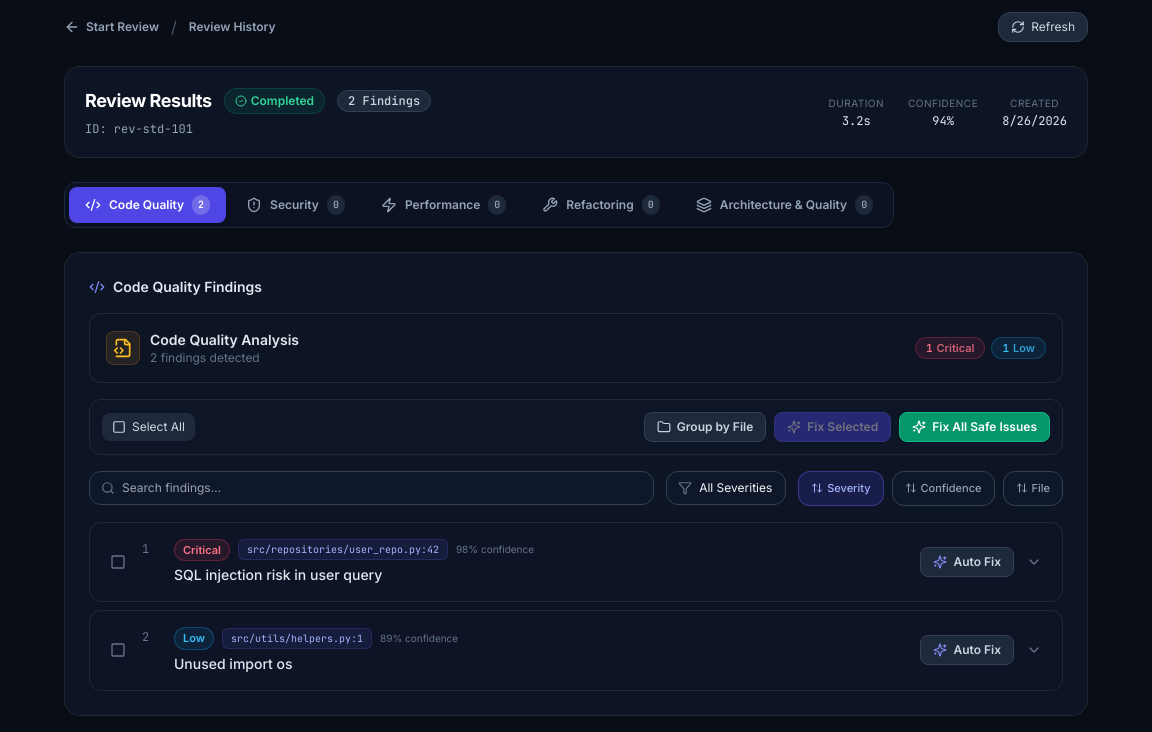
Test: Localized Error Standardization & Safe Rendering › displays Gemini 429 quota error inline without creating fake fix
The image size is (1152, 732).
Expected: the text "SQL injection risk in user query" is shown, [174,566,382,583]
Click the 1st button "Auto Fix" at point(967, 562), box [920,547,1014,577]
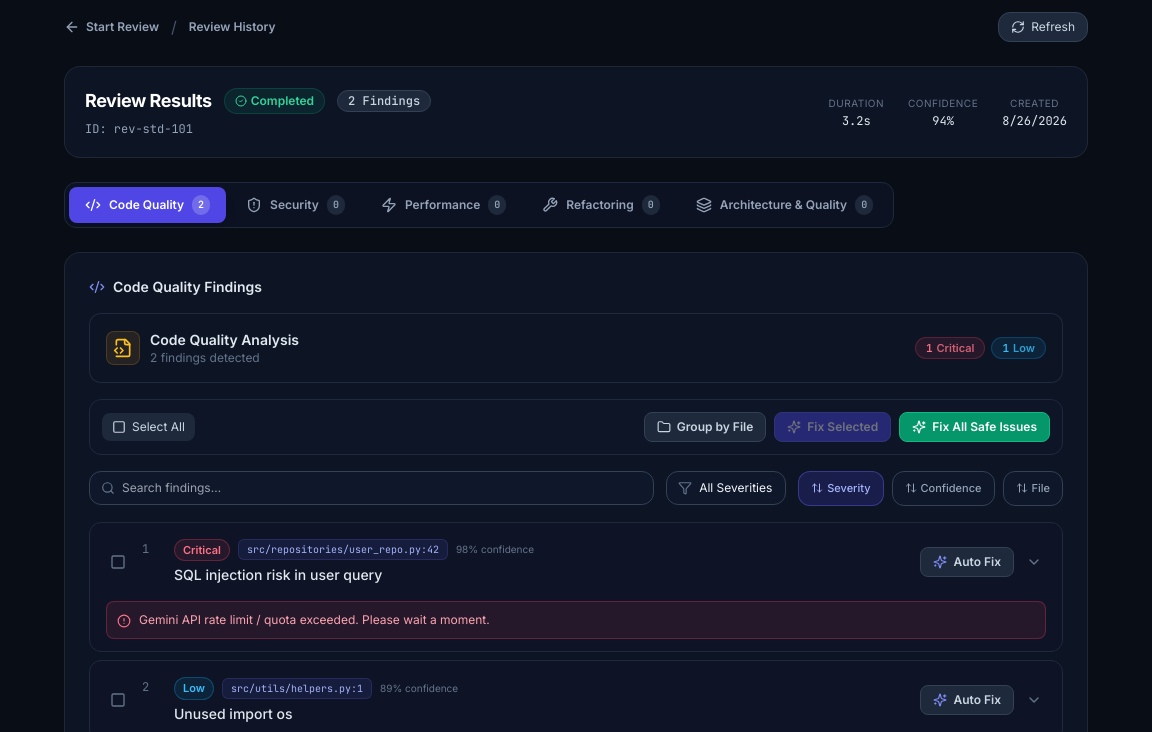
Expected: the text "Gemini API rate limit / quota exceeded" is shown, [139,612,490,627]
